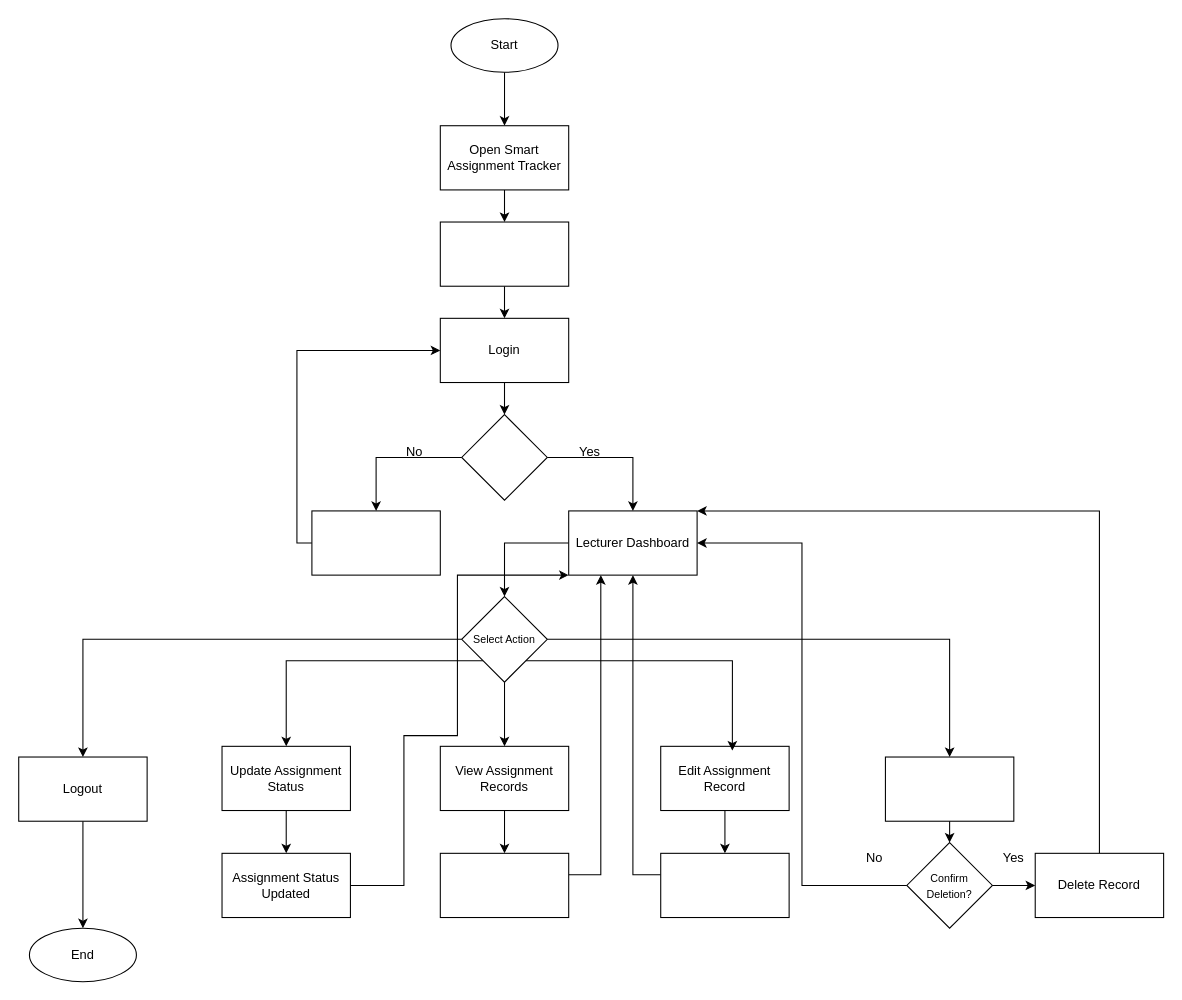
Image size: 1182x1000. Some labels were removed from this diagram. The centre of each missing label's shape, as x and y in pixels:
"Delete Invalid Assignment" belongs at (x=949, y=788).
"Display Login Error" belongs at (x=375, y=542).
"Homepage" belongs at (x=504, y=253).
"Login Successful?" belongs at (x=504, y=457).
"Save Changes" belongs at (x=724, y=885).
"View Assignment Details" belongs at (x=504, y=885).
